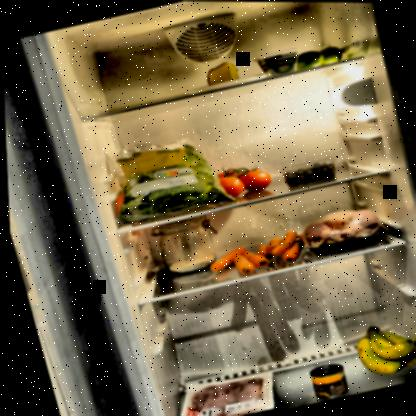banana: (343, 311, 415, 383)
blueberries: (280, 157, 341, 190)
carrot: (205, 225, 309, 281)
cheese: (202, 58, 244, 89)
chicken: (294, 199, 391, 261)
corn: (302, 359, 350, 402)
lime: (279, 42, 349, 72)
spinach: (98, 126, 234, 228)
tomato: (205, 155, 277, 203)
